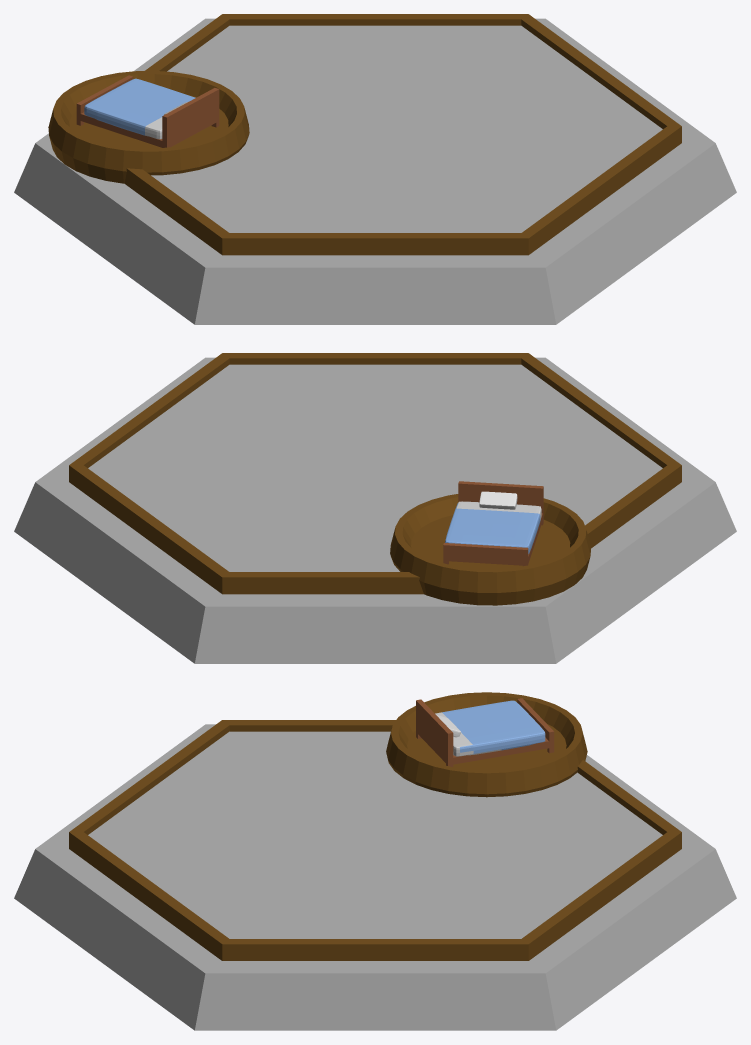
The model's file is tidur board.fbx.
3 views of the same model, one above another, from view 1: azimuth 30°, elevation 25°; view 2: azimuth 150°, elevation 25°; view 3: azimuth 270°, elevation 25° (orthographic).
Visible parts, largest first — view 1: tidur board; view 2: tidur board; view 3: tidur board.
Boxes of the visible parts, x1,y1,x2,y2 form: tidur board: [14, 14, 736, 324]; tidur board: [14, 353, 736, 663]; tidur board: [14, 692, 736, 1030].
Bounding box in the file's own units: 315 × 59.01 × 364.
